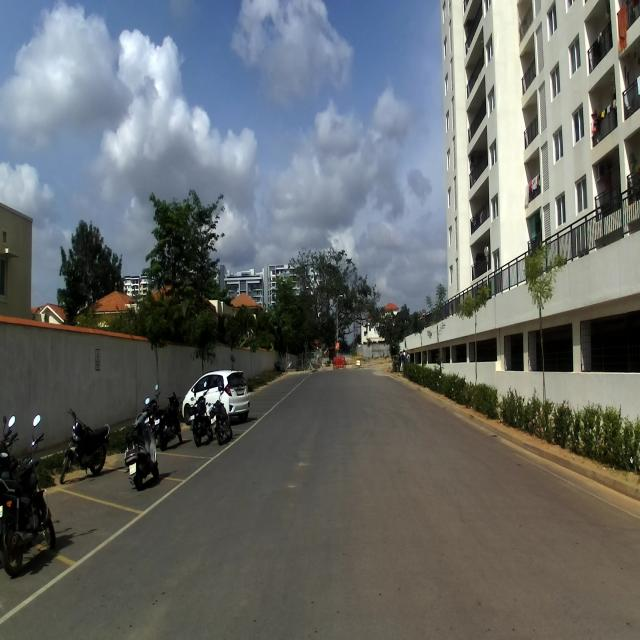motorcycle_Hero: (0, 411, 58, 578)
motorcycle_Honda: (187, 379, 214, 447)
motorcycle_bajaj: (152, 390, 183, 452)
scooter: (122, 396, 160, 492)
